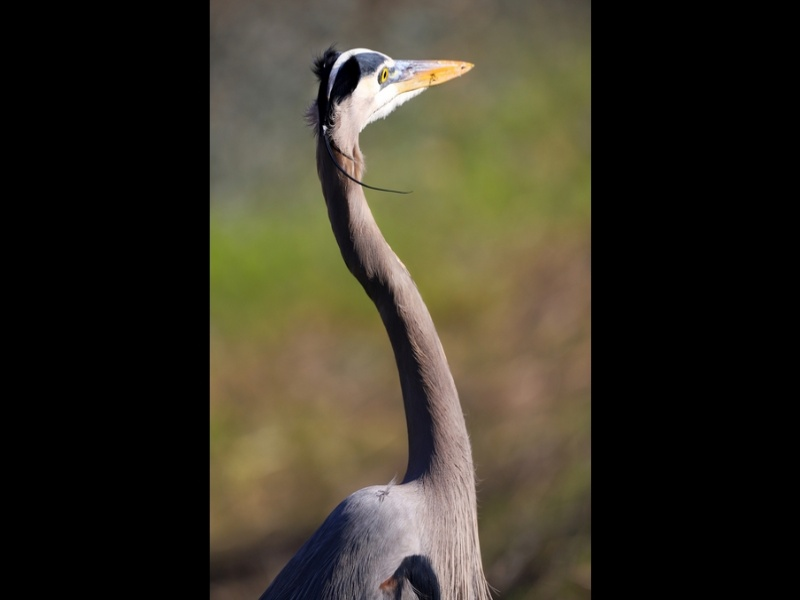heron: (260, 44, 491, 592)
